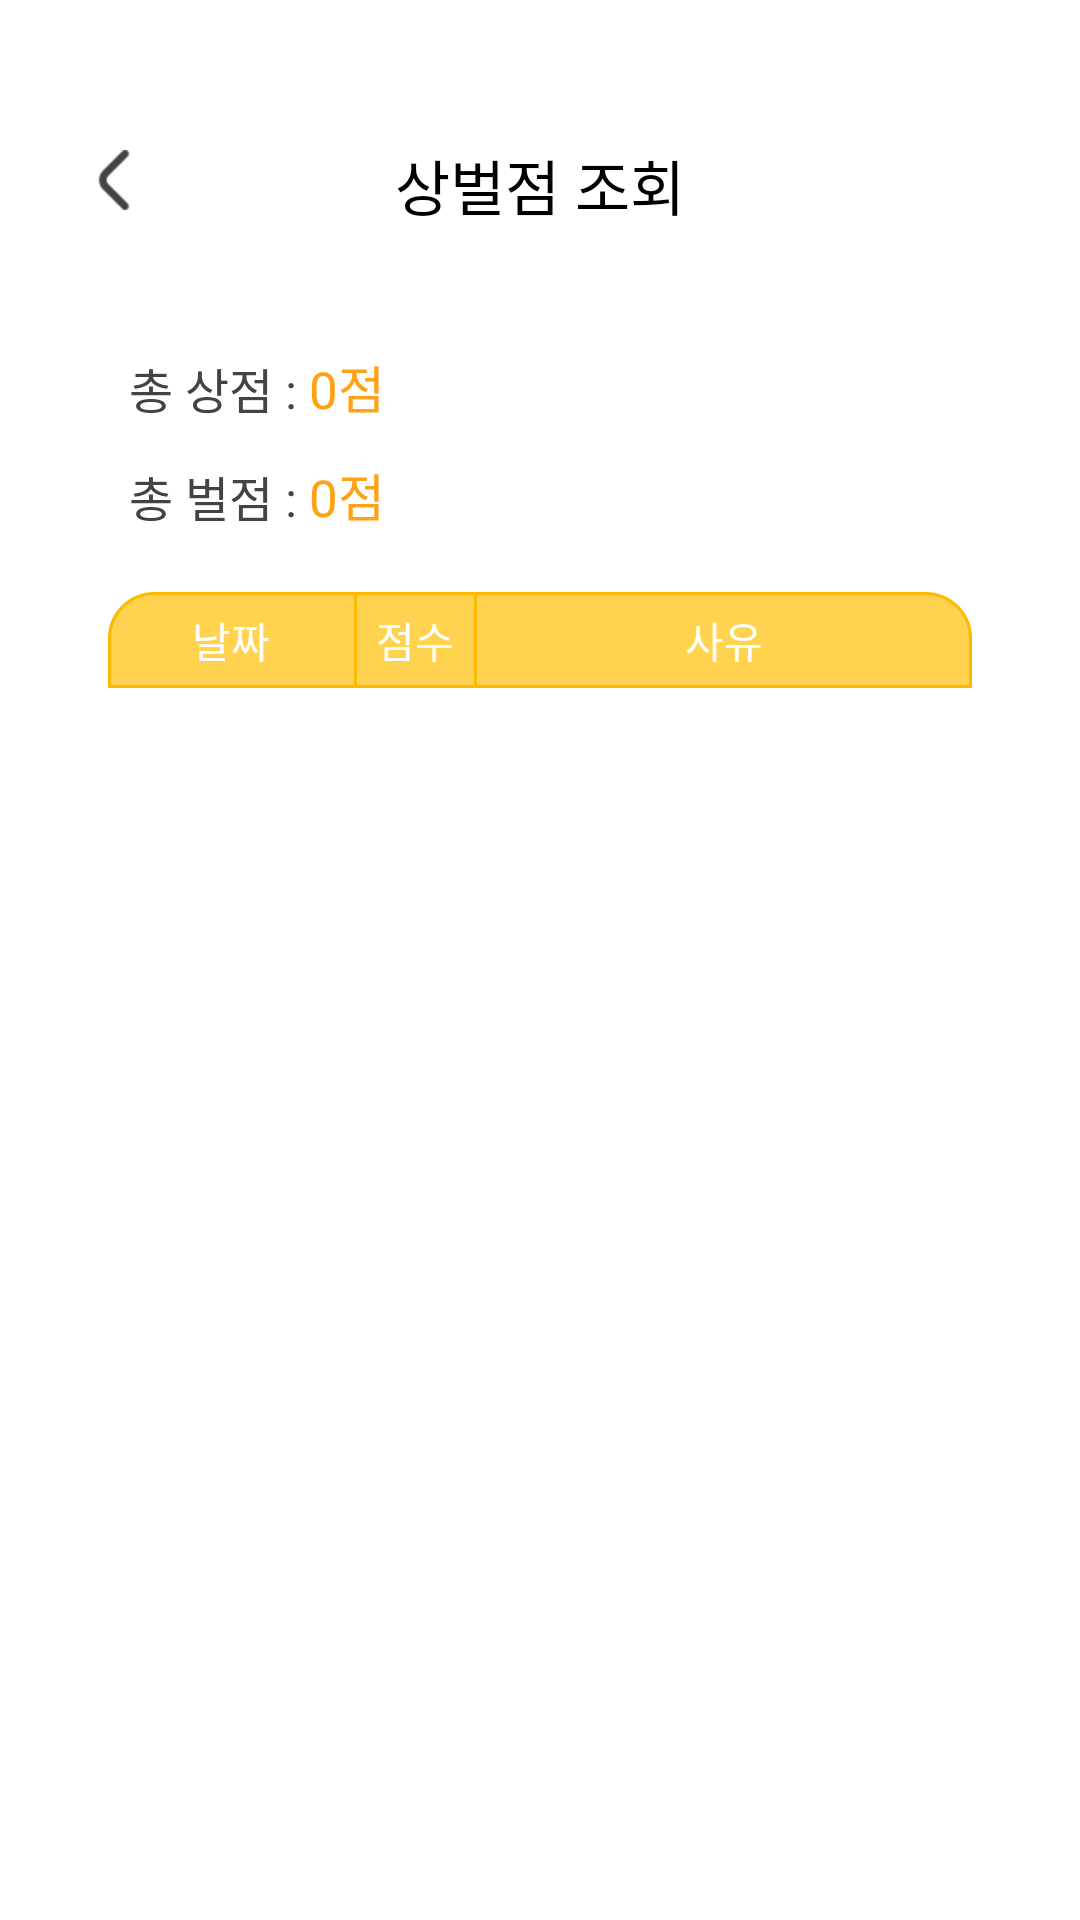

Point at icon controls on the screen. Image size 1080px×1920px, points as (x,y).
back: (114,180)
